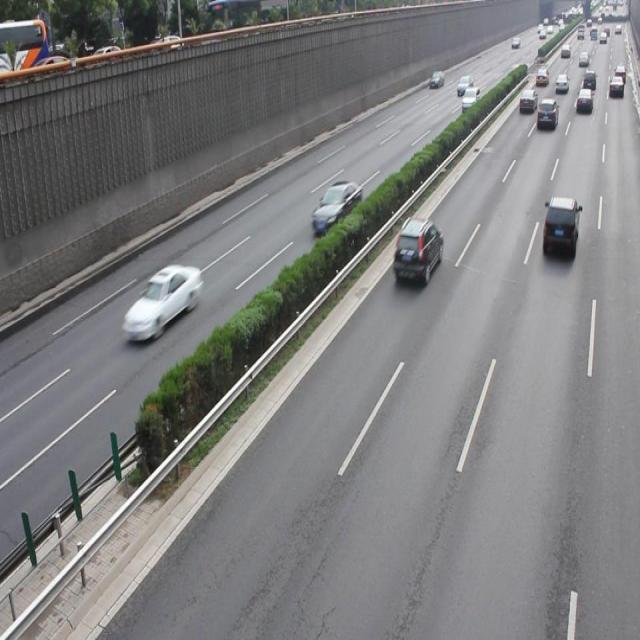car: (121, 262, 202, 341), (392, 216, 442, 282), (310, 180, 362, 234), (541, 195, 578, 259)
